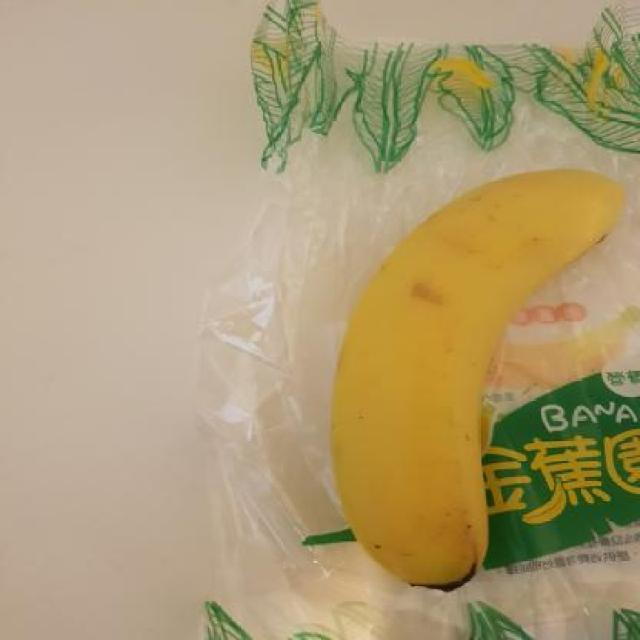banana: (323, 159, 631, 593)
